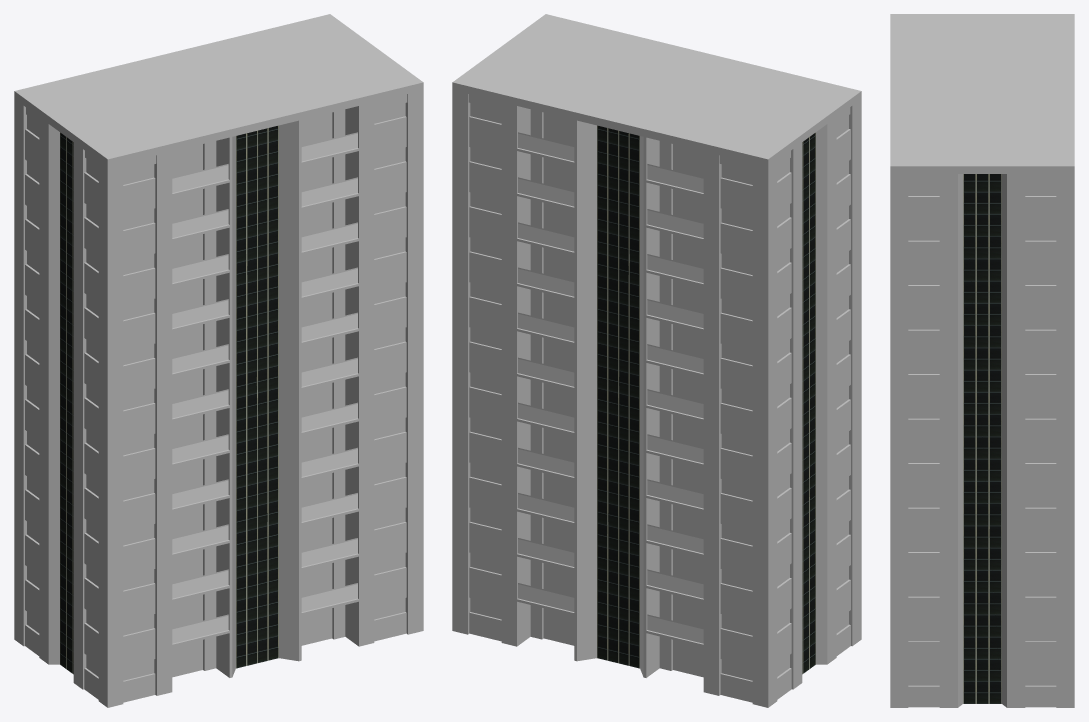
The picture shows the model from 3 angles, left to right: view 1: azimuth 30°, elevation 25°; view 2: azimuth 150°, elevation 25°; view 3: azimuth 270°, elevation 25°; orthographic projection.
Parts seen in each view (by area): view 1: BR-026; view 2: BR-026; view 3: BR-026.
Part boxes in pixels (left/top/right/bottom): BR-026: left=14, top=14, right=423, bottom=707; BR-026: left=452, top=14, right=861, bottom=707; BR-026: left=890, top=14, right=1074, bottom=707.
Size of what is drawn, in the model's own units: 22 by 36.52 by 11.27.
